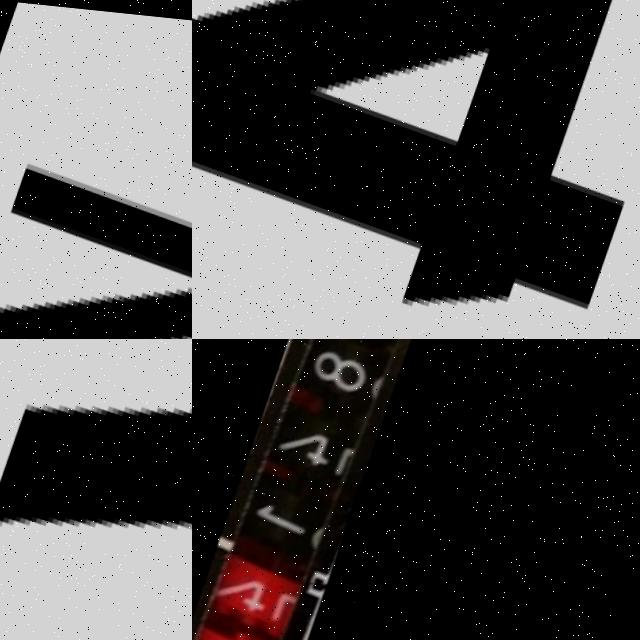1: (257, 490, 320, 532)
4: (218, 556, 283, 611), (276, 411, 344, 462)
8: (310, 339, 374, 388)
K: (0, 135, 192, 339)
U: (0, 339, 192, 640)
